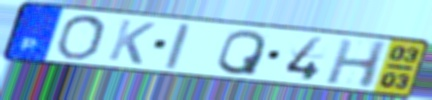4: (281, 35, 323, 82)
H: (323, 38, 391, 90)
I: (162, 21, 193, 71)
K: (105, 17, 159, 66)
O: (53, 14, 109, 61)
Q: (214, 29, 269, 77)
